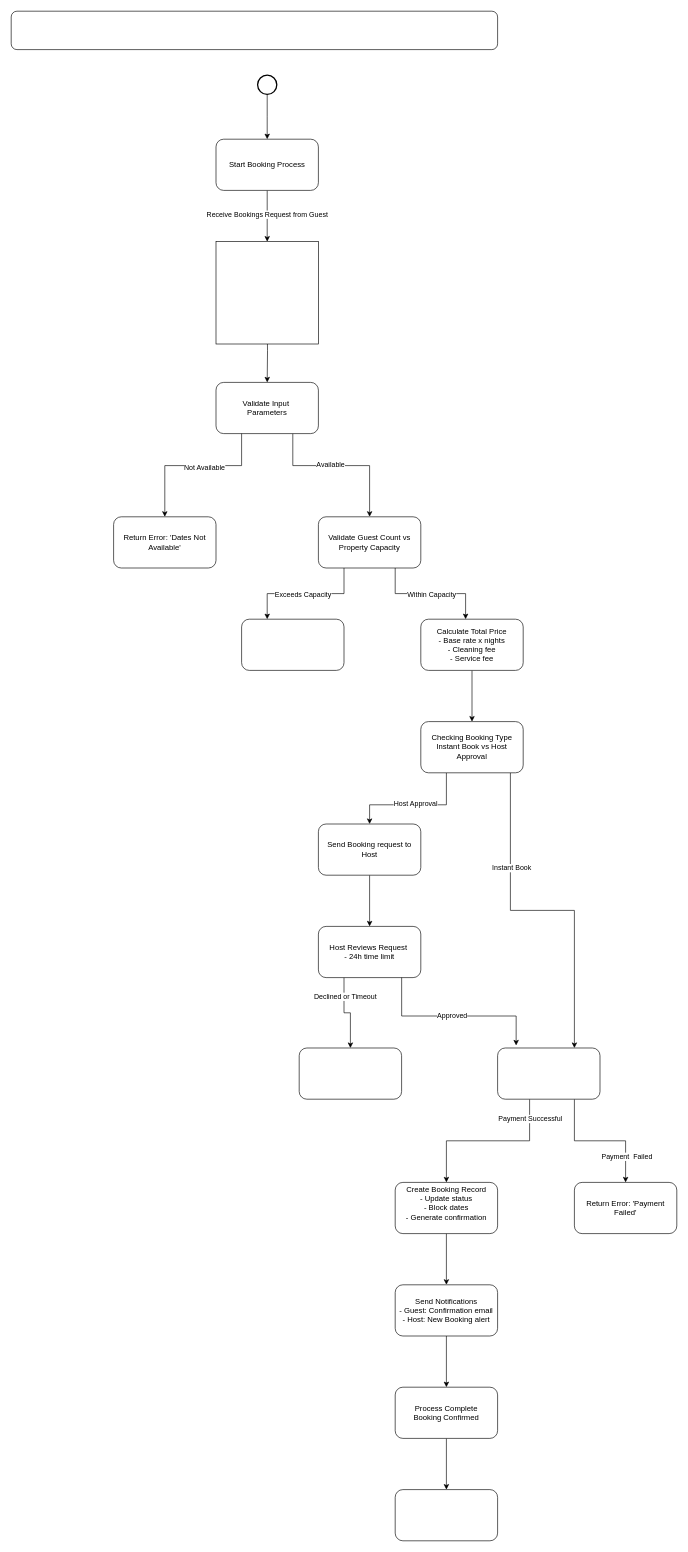
This 688x1552 diagram has some shape labels left out. Here are the shapes that lost their labels. From the top down, the box of each, then its label:
(11, 11, 498, 50): PROPERTY BOOKING PROCESS FLOWCHART AirBnb Backend System Workflow
(215, 241, 318, 344): - property_id - check_in_date -check_out_date -
(241, 619, 344, 670): Return Error: 'Exceeds MAx Guests'
(299, 1047, 402, 1099): Auto-Decline after 24h
(497, 1047, 600, 1099): Process Payment Authorization {Hold amount}
(395, 1489, 498, 1541): Update Search Index & Cache Layers
